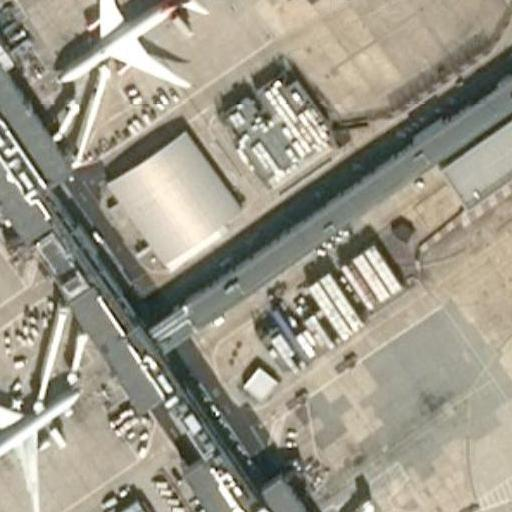Aircraft: (54, 0, 212, 94), (0, 370, 85, 512)
